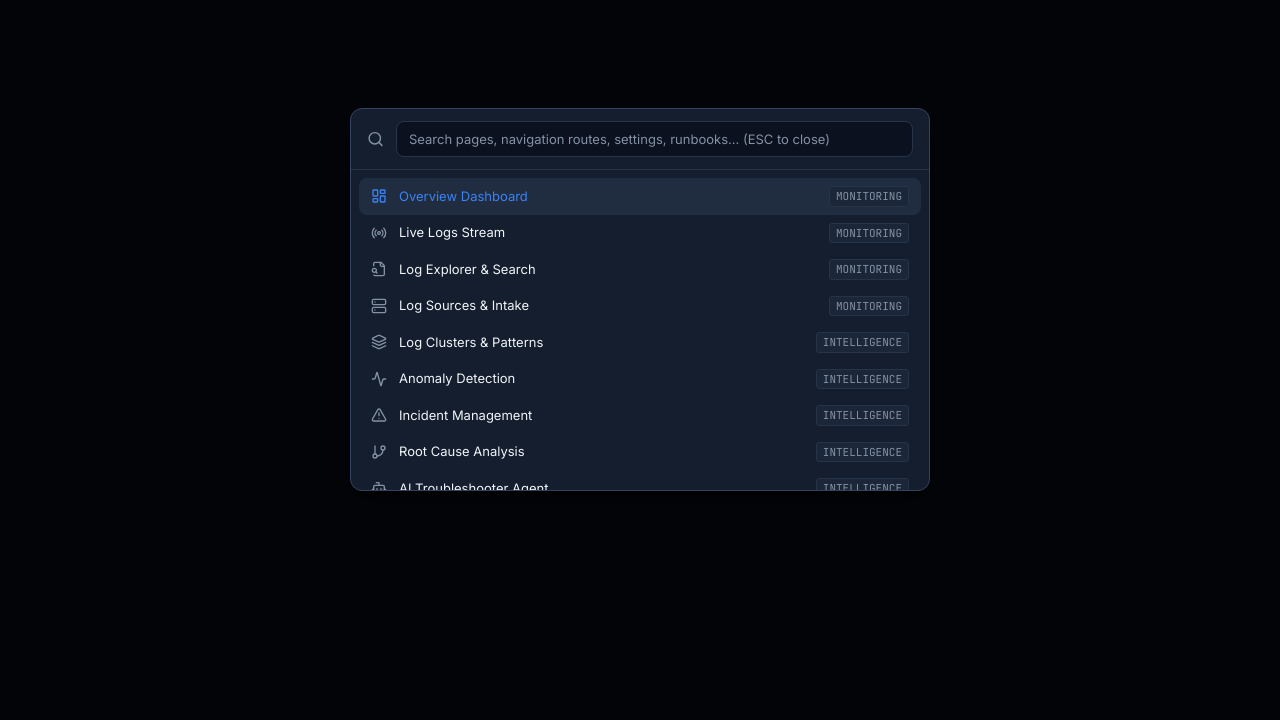
Test case: Phase 2 UI and Interaction Components › opens CommandPalette and filters navigation commands
Expected: the text "Overview Dashboard" is shown, left=399, top=186, right=528, bottom=206
Expected: the text "Live Logs Stream" is shown, left=399, top=223, right=505, bottom=242
Replace the text in the field with placeholder "Search pages, navigation routes" with "remediation" at (654, 139), box left=396, top=121, right=913, bottom=157
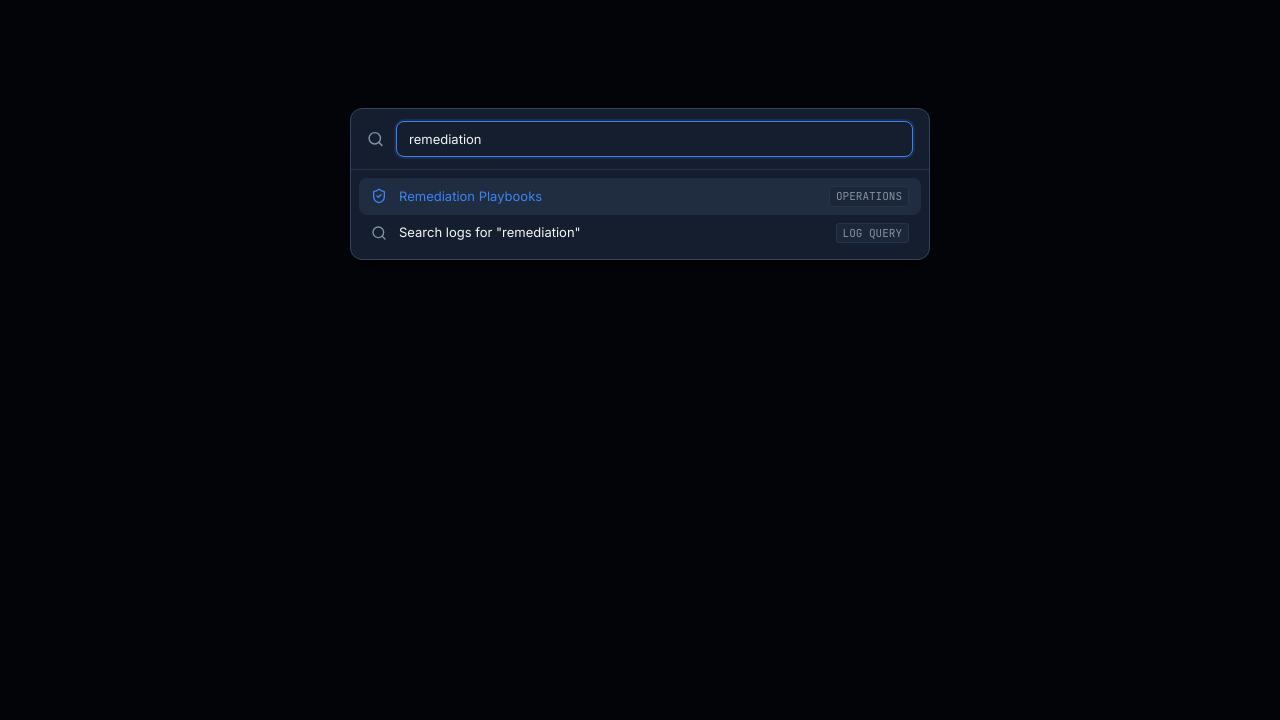
Expected: the text "Remediation Playbooks" is shown, left=399, top=186, right=542, bottom=206
Expected: the text "Live Logs Stream" is gone
